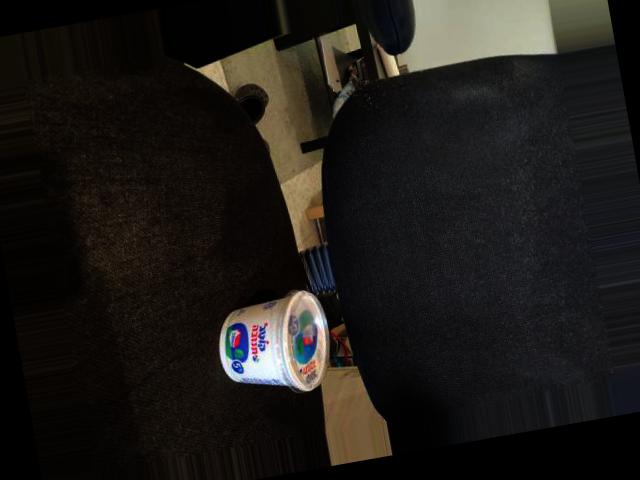cotage: (206, 281, 340, 407)
